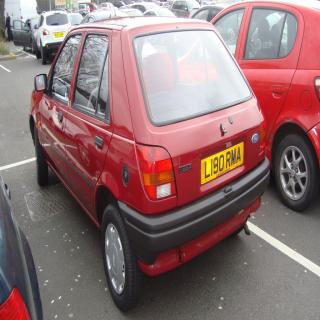license: (199, 135, 251, 188), (55, 33, 65, 39)
